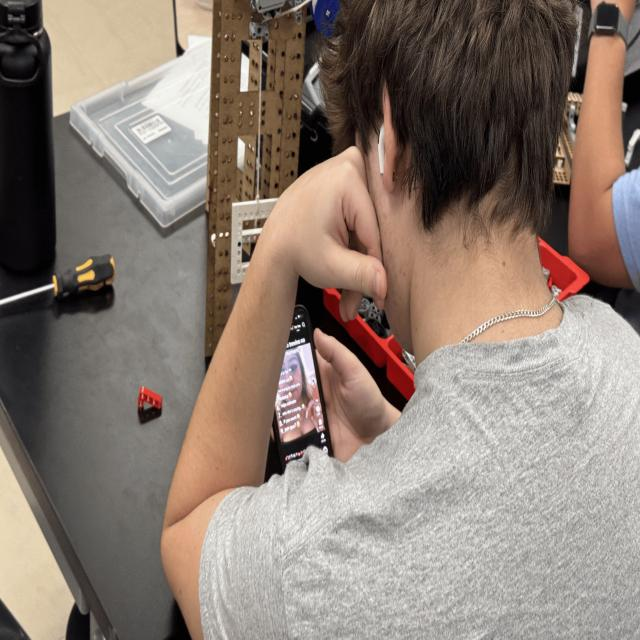pen: (251, 302, 336, 508)
